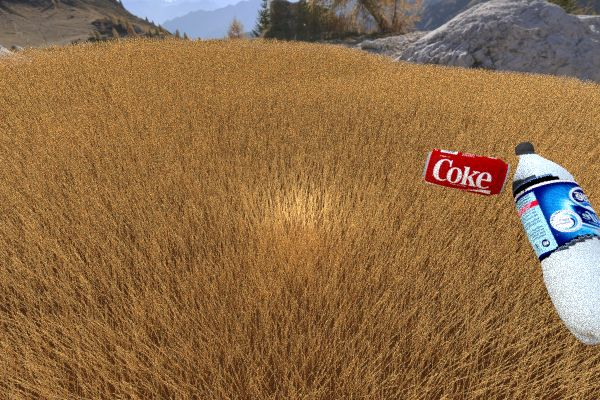bottle: (511, 140, 600, 343)
can: (210, 71, 250, 97), (130, 66, 167, 92)
